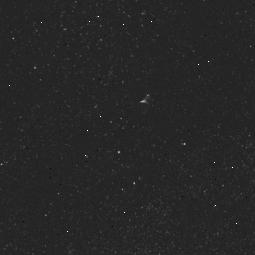debris: (131, 89, 160, 117)
